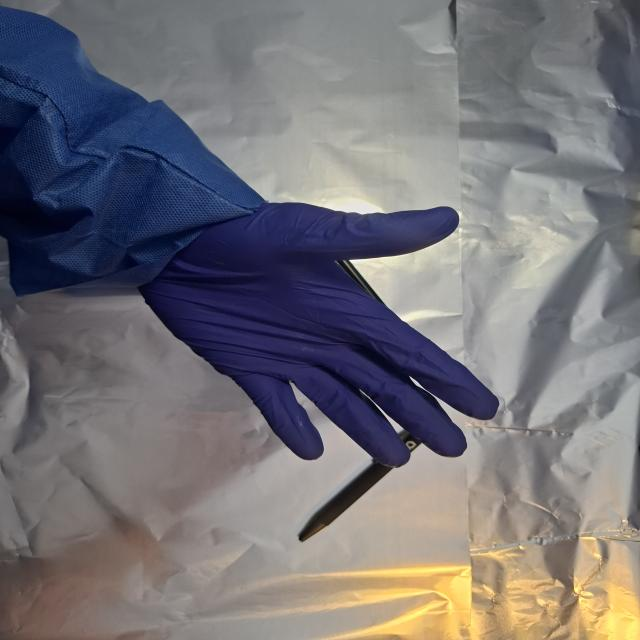glove_on: (134, 198, 503, 470)
